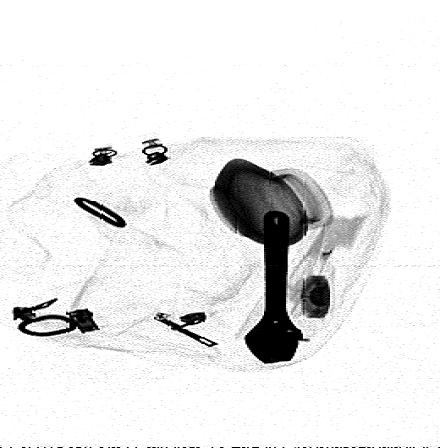Wrench: (242, 206, 306, 366)
